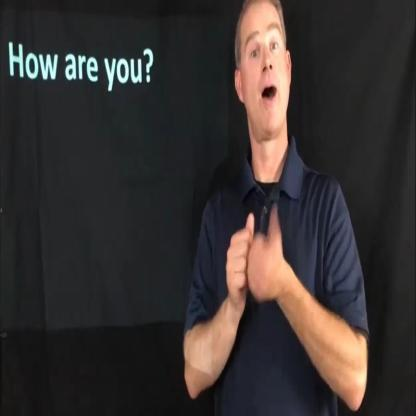HowAreYou: (215, 187, 294, 323)
